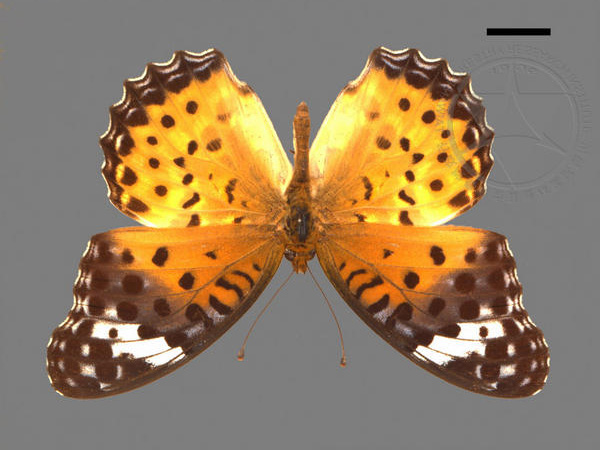Argyreus hyperbius: (37, 39, 555, 403)
butterfly: (35, 37, 553, 401)
